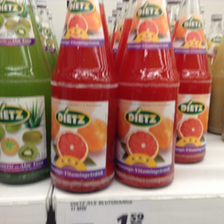juice: (49, 1, 118, 194), (118, 1, 180, 189), (1, 1, 52, 186), (172, 1, 211, 164)
